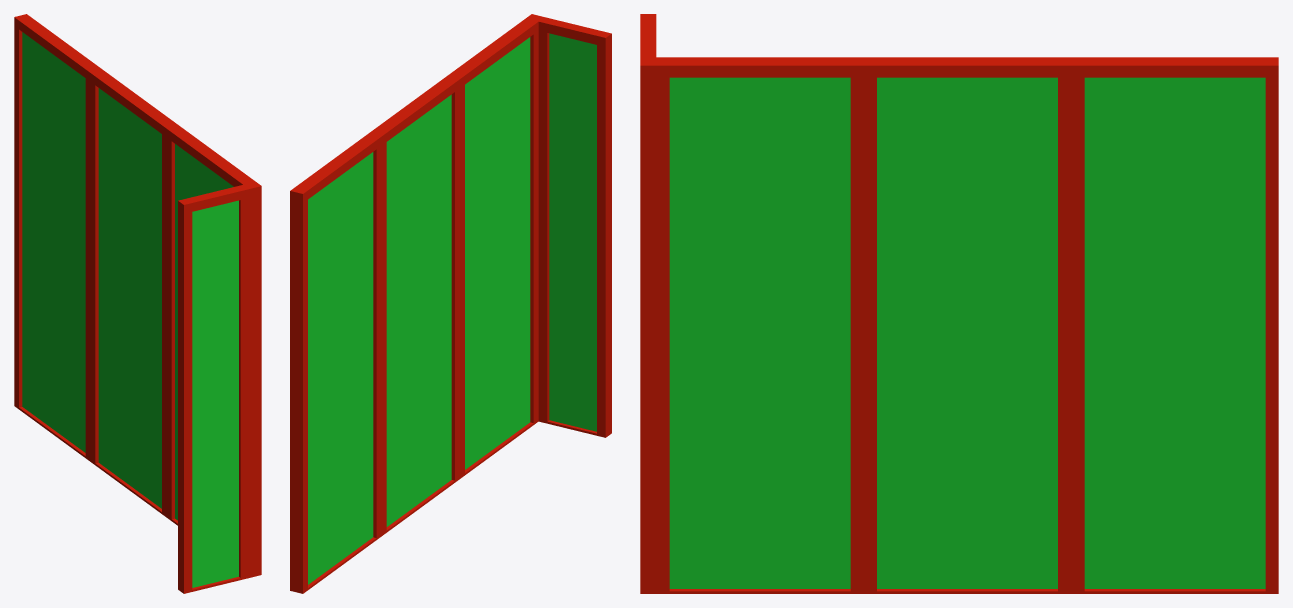
The model's file is Wall_Loby2.fbx.
3 views of the same model, side by side, from view 1: azimuth 30°, elevation 25°; view 2: azimuth 150°, elevation 25°; view 3: azimuth 270°, elevation 25° (orthographic). The views are drawn at different scales.
Parts seen in each view (by area): view 1: wall:wall_infrontoff_stair; view 2: wall:wall_infrontoff_stair; view 3: wall:wall_infrontoff_stair.
Boxes of the visible parts, x1,y1,x2,y2 form: wall:wall_infrontoff_stair: (14, 14, 261, 593); wall:wall_infrontoff_stair: (290, 14, 611, 593); wall:wall_infrontoff_stair: (640, 14, 1278, 593).
Bounding box in the file's own units: 82.67 × 395 × 432.
